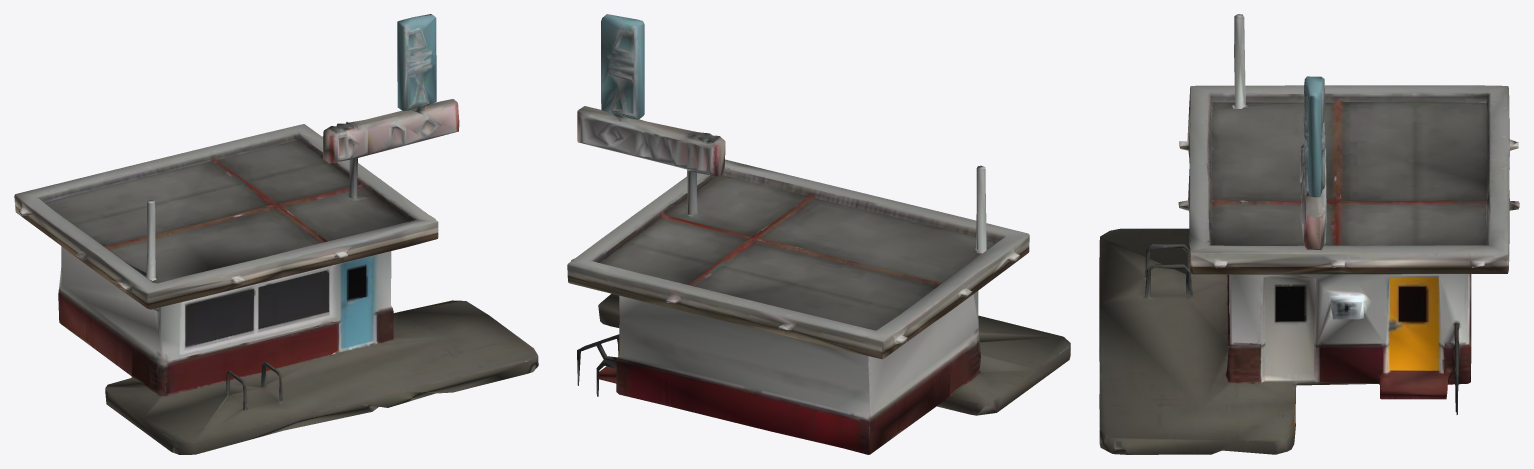
File: motel.glb
3 renders of one model, left to right at view 1: azimuth 30°, elevation 25°; view 2: azimuth 150°, elevation 25°; view 3: azimuth 270°, elevation 25°, orthographic. The views are drawn at different scales.
Size of the model in its own units: 1 by 0.7636 by 0.8345.
Materials: 1 (1 with a texture image).
